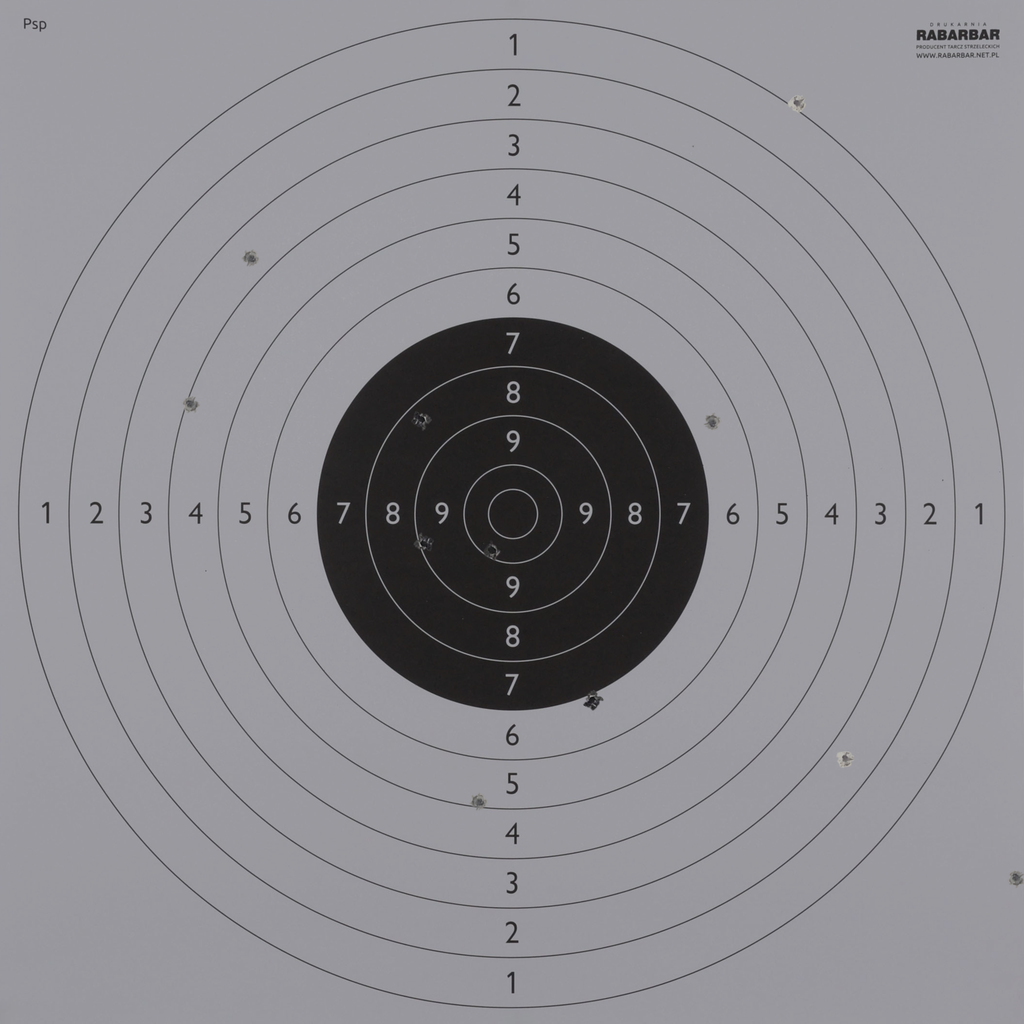0 punktow: (1007, 869, 1024, 887)
1 punkt: (788, 94, 806, 112)
10 punktow: (483, 542, 502, 560)
2 punkty: (836, 749, 855, 768)
3 punkty: (242, 249, 261, 268)
4 punkty: (181, 395, 199, 413)
5 punktow: (470, 793, 489, 811)
6 punktow: (703, 414, 722, 432)
7 punktow: (583, 691, 601, 710)
8 punktow: (412, 410, 430, 429)
9 punktow: (415, 534, 434, 553)
